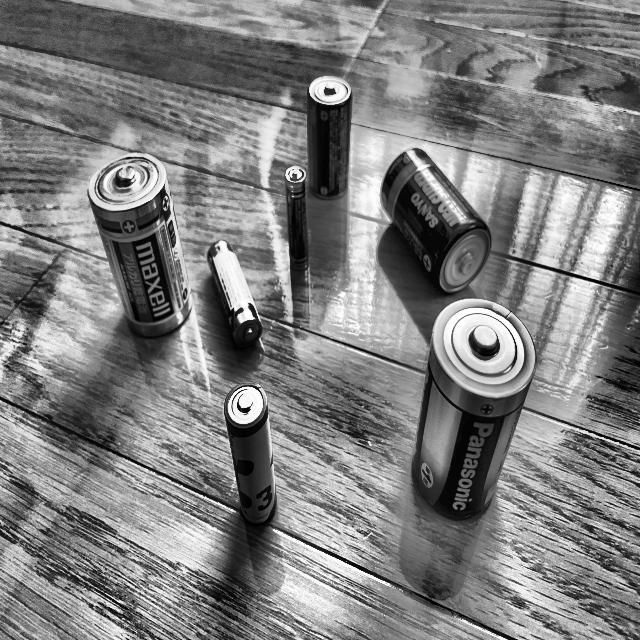drycell: (413, 298, 537, 520), (87, 152, 192, 336), (381, 147, 492, 292), (224, 382, 277, 524), (207, 240, 262, 347), (308, 76, 351, 198), (285, 166, 308, 270)
